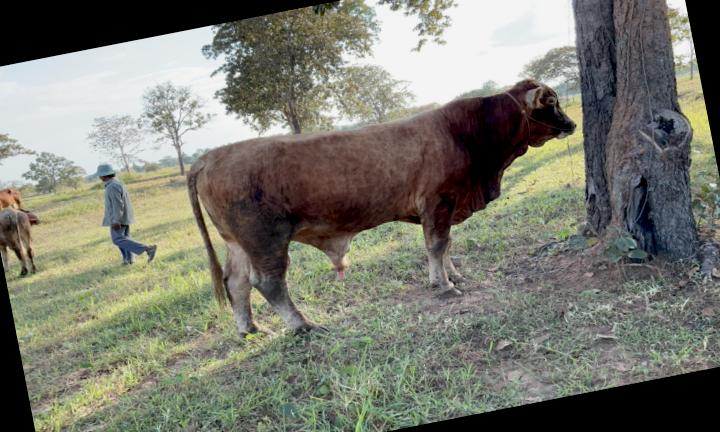Charolais: (186, 78, 575, 333)
